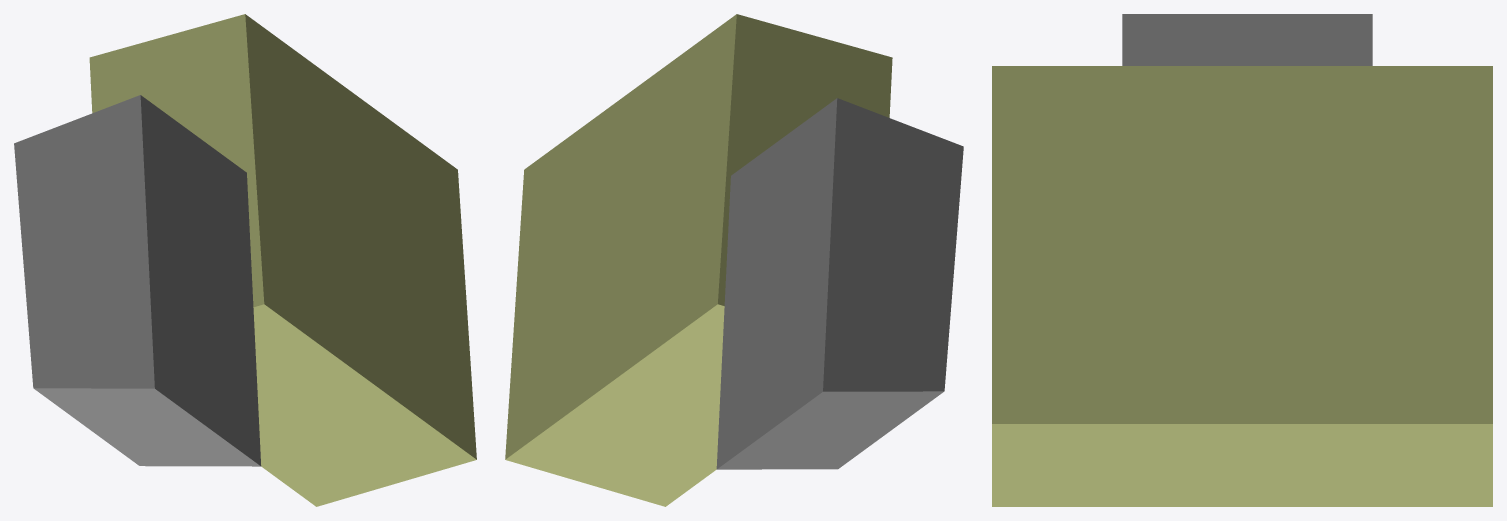
3 renders of one model, left to right at view 1: azimuth 30°, elevation 25°; view 2: azimuth 150°, elevation 25°; view 3: azimuth 270°, elevation 25°, orthographic. The views are drawn at different scales.
Visible parts, largest first — view 1: 0_1_2_0_1_3_0_3_1_0_3_2; view 2: 0_1_2_0_1_3_0_3_1_0_3_2; view 3: 0_1_2_0_1_3_0_3_1_0_3_2.
Part boxes in pixels (box(x1,y1,x2,y2)): 0_1_2_0_1_3_0_3_1_0_3_2: box(14, 14, 476, 506); 0_1_2_0_1_3_0_3_1_0_3_2: box(505, 14, 963, 506); 0_1_2_0_1_3_0_3_1_0_3_2: box(992, 14, 1492, 506).
Size of the model in its own units: 4.91 by 4.71 by 6.
